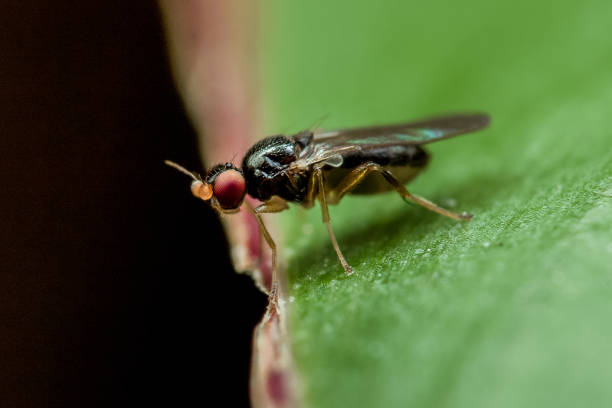Fruit fly: (177, 121, 478, 243)
